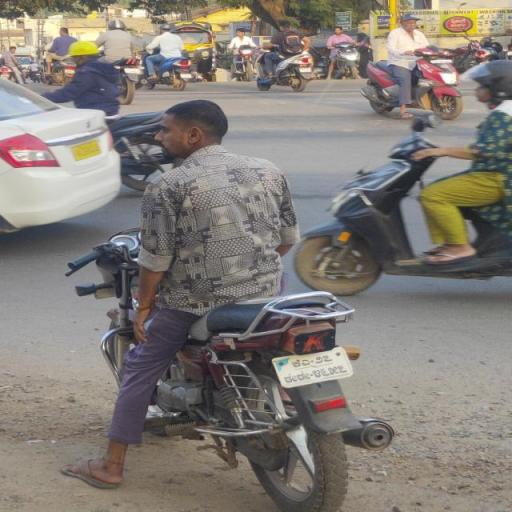bike: (39, 94, 395, 511)
numberplate: (268, 336, 358, 391)
withouthelmet: (164, 102, 226, 150)
